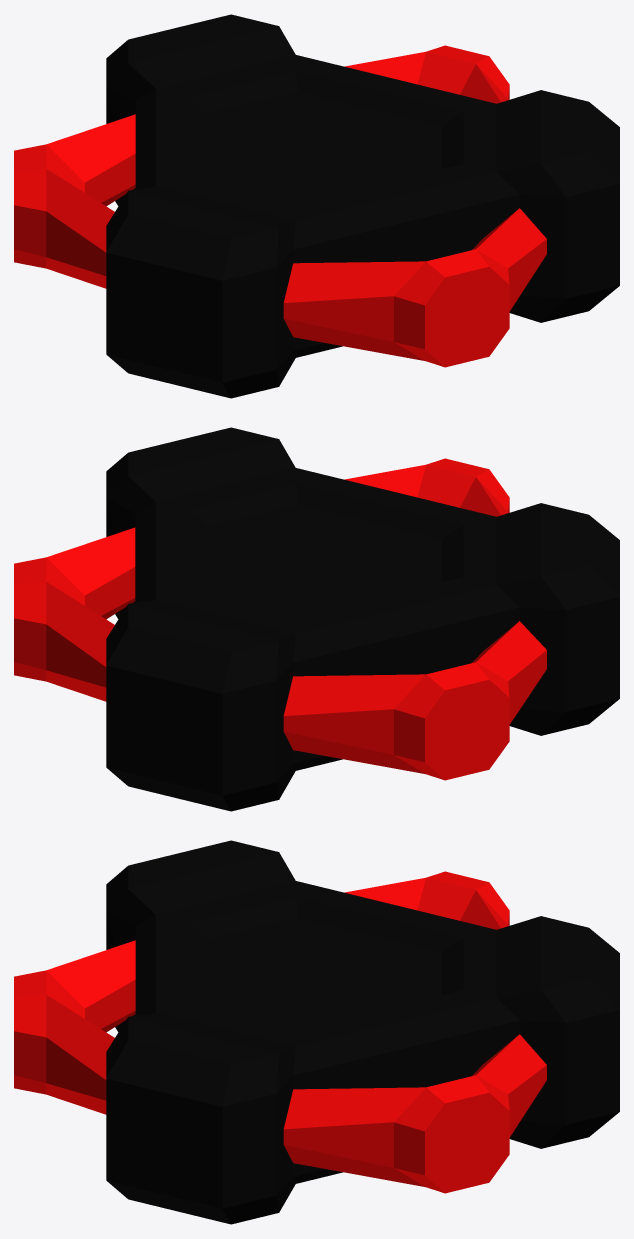
File: Holo_parc.fbx
3 views of the same model, one above another, from view 1: azimuth 30°, elevation 25°; view 2: azimuth 150°, elevation 25°; view 3: azimuth 270°, elevation 25° (orthographic).
Visible parts, largest first — view 1: Holo_Parc; view 2: Holo_Parc; view 3: Holo_Parc.
Boxes of the visible parts, x1,y1,x2,y2 form: Holo_Parc: (14, 14, 619, 398); Holo_Parc: (14, 427, 619, 811); Holo_Parc: (14, 840, 619, 1224).
Bounding box in the file's own units: 596 × 609 × 177.
